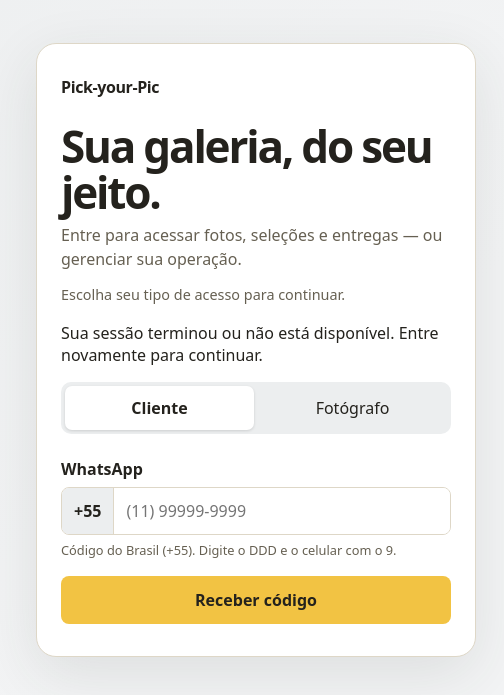
Test: entrada com identidade configurável › reautentica cadastro existente no subdomínio e conserva a compra solicitada
Step 1. Type "11987654321" into the field labelled "WhatsApp" → (282, 511), box [114,488,450,534]
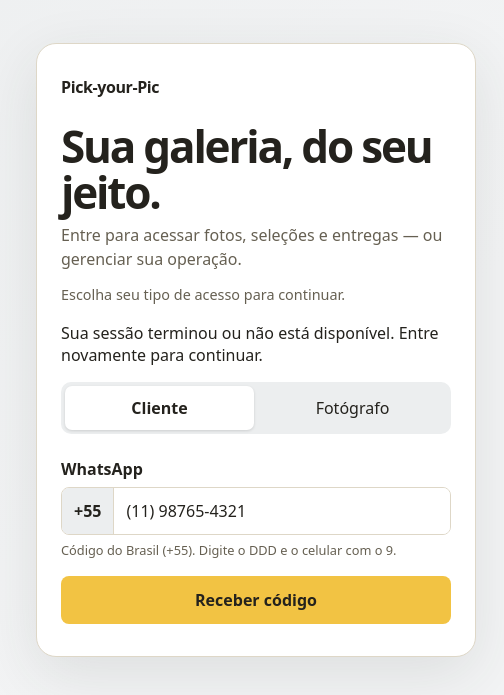
Step 2. Click the button "Receber código" → (256, 600), box [61,576,451,624]
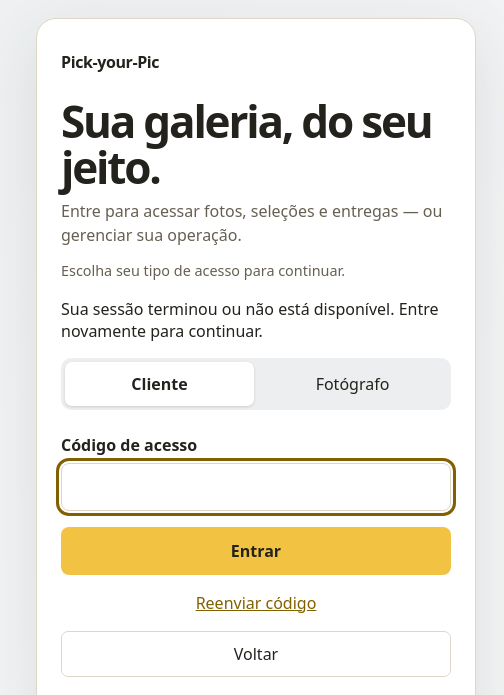
Check: the field labelled "Código de acesso" is shown, box [61,462,451,510]
